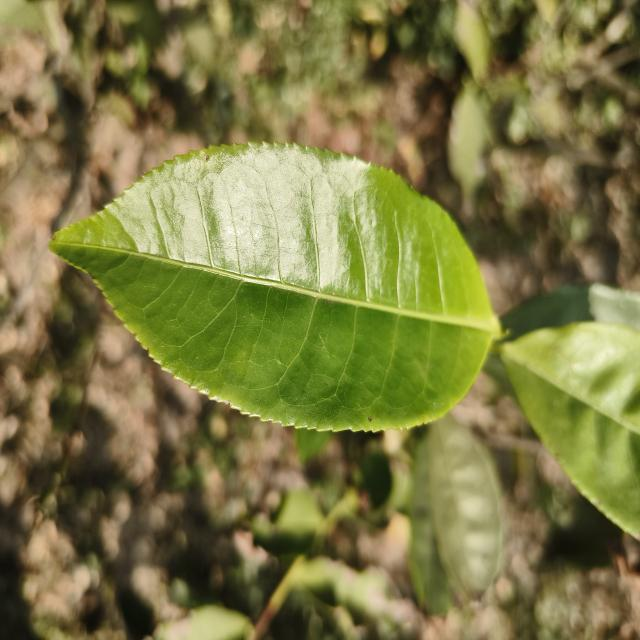Leaf: (51, 143, 500, 430), (501, 322, 640, 537), (427, 415, 502, 597), (448, 82, 489, 200), (252, 489, 324, 553), (456, 0, 490, 81)
